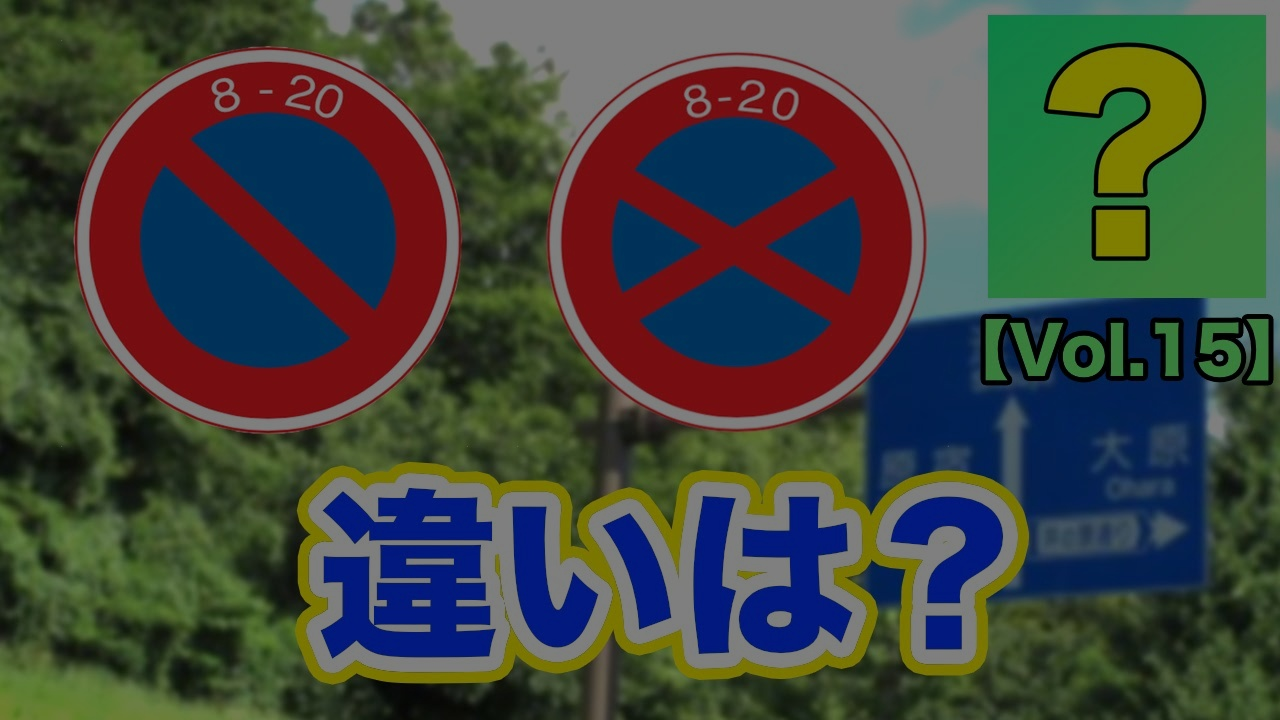Prohibition_sign: (524, 34, 944, 454), (65, 30, 494, 437)
